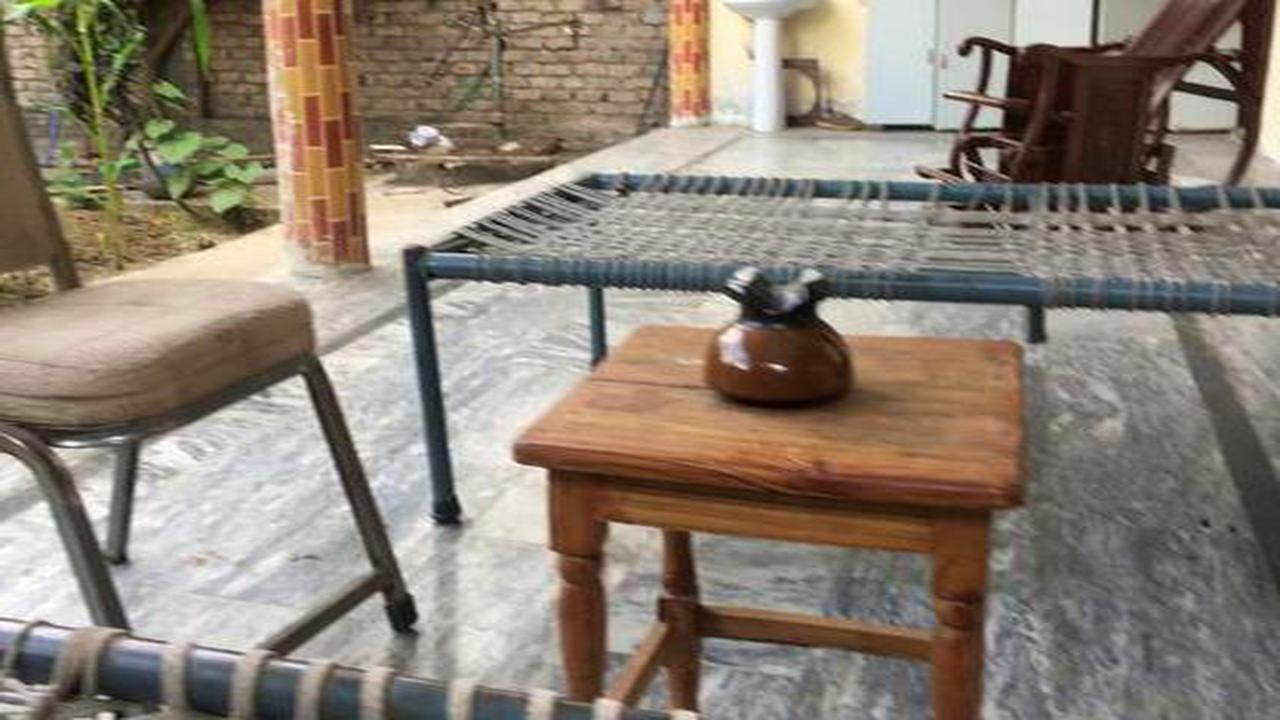insulator_pin: (681, 245, 871, 416)
